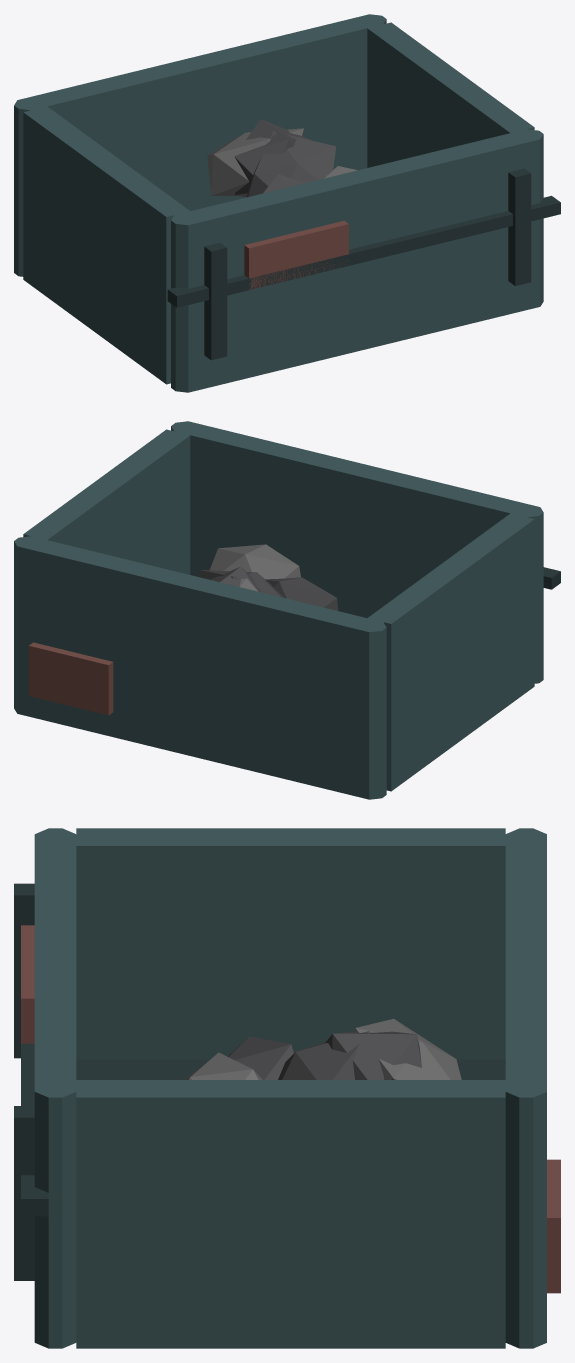
Rendered from ancient_steel_slag_box_open.obj.
The picture shows the model from 3 angles, top to bottom: view 1: azimuth 30°, elevation 25°; view 2: azimuth 150°, elevation 25°; view 3: azimuth 270°, elevation 25°; orthographic projection. The views are drawn at different scales.
Parts seen in each view (by area): view 1: ancient_steel_slag_box_open; view 2: ancient_steel_slag_box_open; view 3: ancient_steel_slag_box_open.
Boxes of the visible parts, x1,y1,x2,y2 form: ancient_steel_slag_box_open: (14,14,560,392); ancient_steel_slag_box_open: (14,421,560,799); ancient_steel_slag_box_open: (14,828,560,1348).
Bounding box in the file's own units: 0.96 × 0.4 × 0.79.
